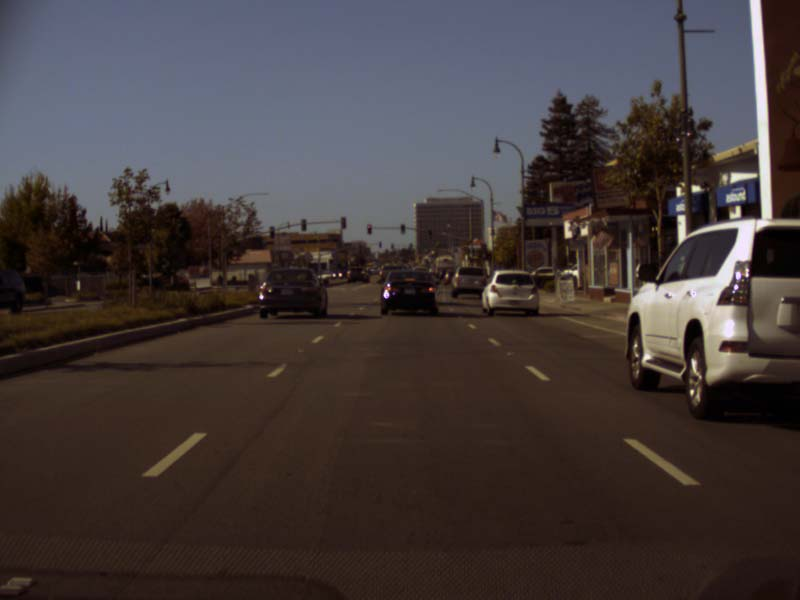Green: (400, 224, 405, 234), (427, 229, 432, 238)
Red: (366, 224, 371, 233)
